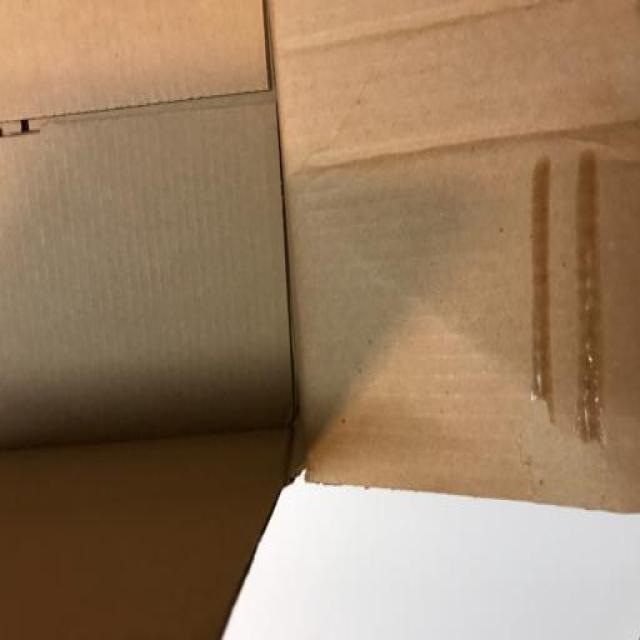Cardboard: (1, 0, 640, 640)
